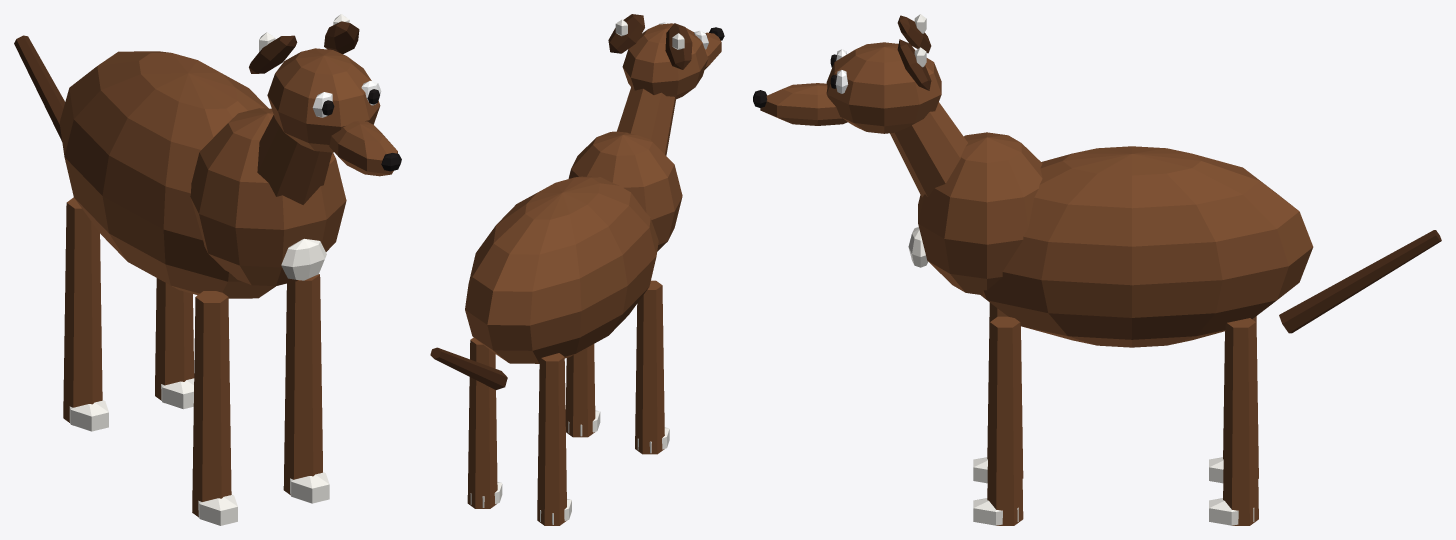
File: dog_greyhound_roots.glb
The picture shows the model from 3 angles, left to right: view 1: azimuth 30°, elevation 25°; view 2: azimuth 150°, elevation 25°; view 3: azimuth 270°, elevation 25°; orthographic projection. The views are drawn at different scales.
Visible parts, largest first — view 1: body_greyhound_dye, legs_greyhound_dye, head_greyhound_dye, legs_greyhound_root, ears_greyhound_dark, tail_greyhound_dark, body_greyhound_root, head_dog_black, head_dog_eye; view 2: body_greyhound_dye, legs_greyhound_dye, head_greyhound_dye, ears_greyhound_dark, tail_greyhound_dark, legs_greyhound_root, ears_greyhound_root; view 3: body_greyhound_dye, legs_greyhound_dye, head_greyhound_dye, tail_greyhound_dark, legs_greyhound_root, ears_greyhound_dark.
Part boxes in pixels (bbox=[...]): body_greyhound_dye: bbox=[59, 51, 346, 298]; legs_greyhound_dye: bbox=[63, 197, 322, 517]; head_greyhound_dye: bbox=[257, 48, 397, 204]; legs_greyhound_root: bbox=[69, 378, 329, 525]; ears_greyhound_dark: bbox=[249, 21, 359, 73]; tail_greyhound_dark: bbox=[14, 35, 65, 141]; body_greyhound_root: bbox=[281, 238, 326, 280]; head_dog_black: bbox=[322, 89, 401, 171]; head_dog_eye: bbox=[312, 80, 381, 117]; body_greyhound_dye: bbox=[465, 131, 682, 363]; legs_greyhound_dye: bbox=[467, 280, 664, 525]; head_greyhound_dye: bbox=[617, 23, 721, 155]; ears_greyhound_dark: bbox=[608, 14, 692, 69]; tail_greyhound_dark: bbox=[430, 347, 507, 389]; legs_greyhound_root: bbox=[470, 410, 669, 524]; ears_greyhound_root: bbox=[615, 19, 684, 49]; body_greyhound_dye: bbox=[918, 132, 1313, 347]; legs_greyhound_dye: bbox=[987, 302, 1258, 525]; head_greyhound_dye: bbox=[760, 42, 967, 197]; tail_greyhound_dark: bbox=[1279, 230, 1441, 333]; legs_greyhound_root: bbox=[973, 457, 1254, 525]; ears_greyhound_dark: bbox=[897, 15, 931, 90].
Size of the model in its own units: 0.3 by 0.8662 by 1.14.
